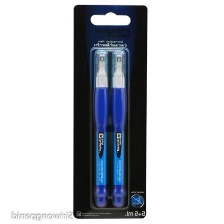book: (71, 1, 150, 220)
correction_fluid: (91, 48, 111, 207), (109, 48, 128, 207)
